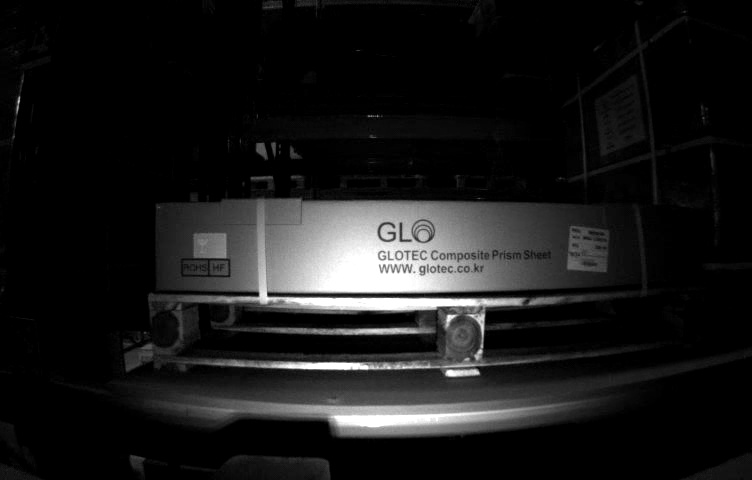True Barcode: (566, 223, 609, 273)
